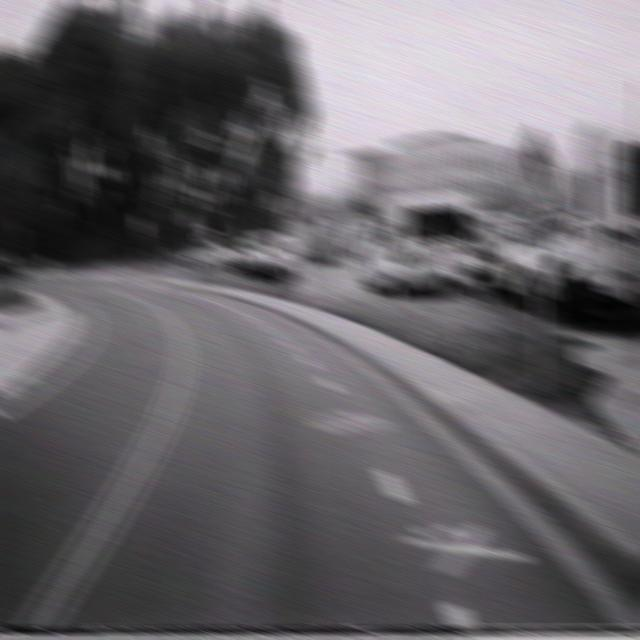pedestrianCrossing: (507, 123, 565, 220)
